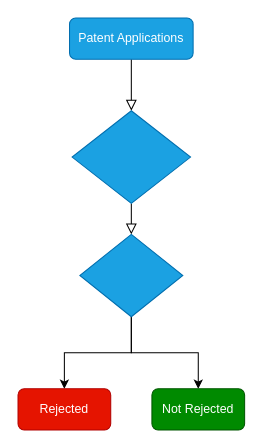
Image size: 263x448. Some labels were removed from this diagram. The centre of each missing label's shape, as x and y in pixels:
"BERT Summarization" belongs at point 131,156.
"Longformer" belongs at point 131,275.
